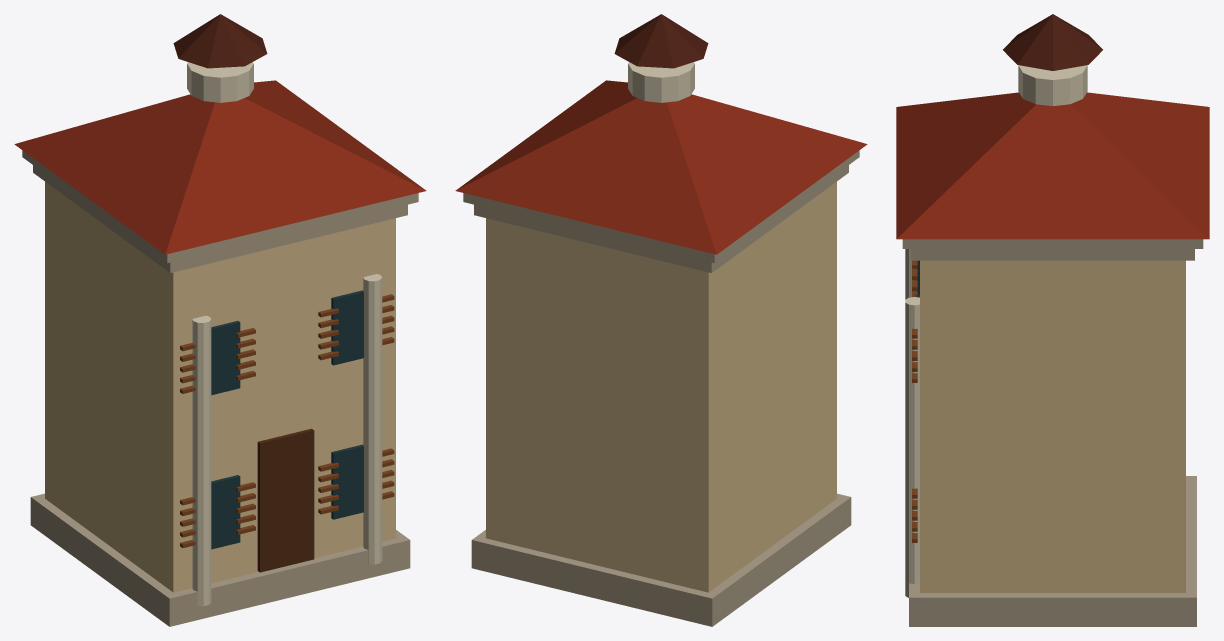
Rendered from GedungLama.obj.
3 renders of one model, left to right at view 1: azimuth 30°, elevation 25°; view 2: azimuth 150°, elevation 25°; view 3: azimuth 270°, elevation 25°, orthographic. The views are drawn at different scales.
Parts seen in each view (by area): view 1: BODY, TILE_ROOF, PLINTH, DOOR, COLUMN_-1.42, COLUMN_1.42, CORNICE_5.72, CORNICE_5.95, CUPOLA_ROOF, CUPOLA_BASE, WINDOW_1_1.15, WINDOW_0_1.15 (+2 smaller); view 2: BODY, TILE_ROOF, PLINTH, CORNICE_5.72, CORNICE_5.95, CUPOLA_ROOF, CUPOLA_BASE; view 3: BODY, TILE_ROOF, PLINTH, COLUMN_1.42, CUPOLA_ROOF, CORNICE_5.72, CORNICE_5.95, CUPOLA_BASE.
Boxes of the visible parts, bbox=[...] form: BODY: bbox=[45, 182, 395, 592]; TILE_ROOF: bbox=[14, 80, 426, 254]; PLINTH: bbox=[30, 493, 410, 626]; DOOR: bbox=[257, 428, 314, 572]; COLUMN_-1.42: bbox=[192, 315, 211, 606]; COLUMN_1.42: bbox=[363, 274, 382, 564]; CORNICE_5.72: bbox=[33, 165, 407, 272]; CORNICE_5.95: bbox=[22, 150, 418, 263]; CUPOLA_ROOF: bbox=[173, 14, 267, 68]; CUPOLA_BASE: bbox=[187, 62, 253, 102]; WINDOW_1_1.15: bbox=[331, 290, 363, 365]; WINDOW_0_1.15: bbox=[331, 444, 363, 519]; BODY: bbox=[486, 182, 836, 592]; TILE_ROOF: bbox=[455, 80, 867, 254]; PLINTH: bbox=[471, 493, 851, 626]; CORNICE_5.72: bbox=[474, 165, 848, 272]; CORNICE_5.95: bbox=[463, 150, 859, 263]; CUPOLA_ROOF: bbox=[614, 14, 708, 68]; CUPOLA_BASE: bbox=[628, 62, 694, 102]; BODY: bbox=[920, 260, 1185, 592]; TILE_ROOF: bbox=[896, 92, 1209, 239]; PLINTH: bbox=[909, 476, 1196, 626]; COLUMN_1.42: bbox=[905, 297, 919, 597]; CUPOLA_ROOF: bbox=[1003, 14, 1102, 70]; CORNICE_5.72: bbox=[911, 249, 1194, 260]; CORNICE_5.95: bbox=[902, 239, 1203, 248]; CUPOLA_BASE: bbox=[1018, 65, 1087, 105].
Size of the model in its own units: 4.35 by 8.47 by 4.35.
